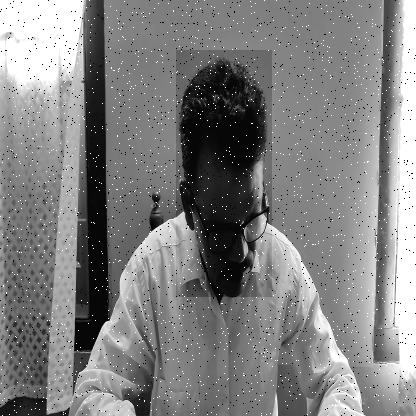Distracted: (176, 50, 272, 297)
